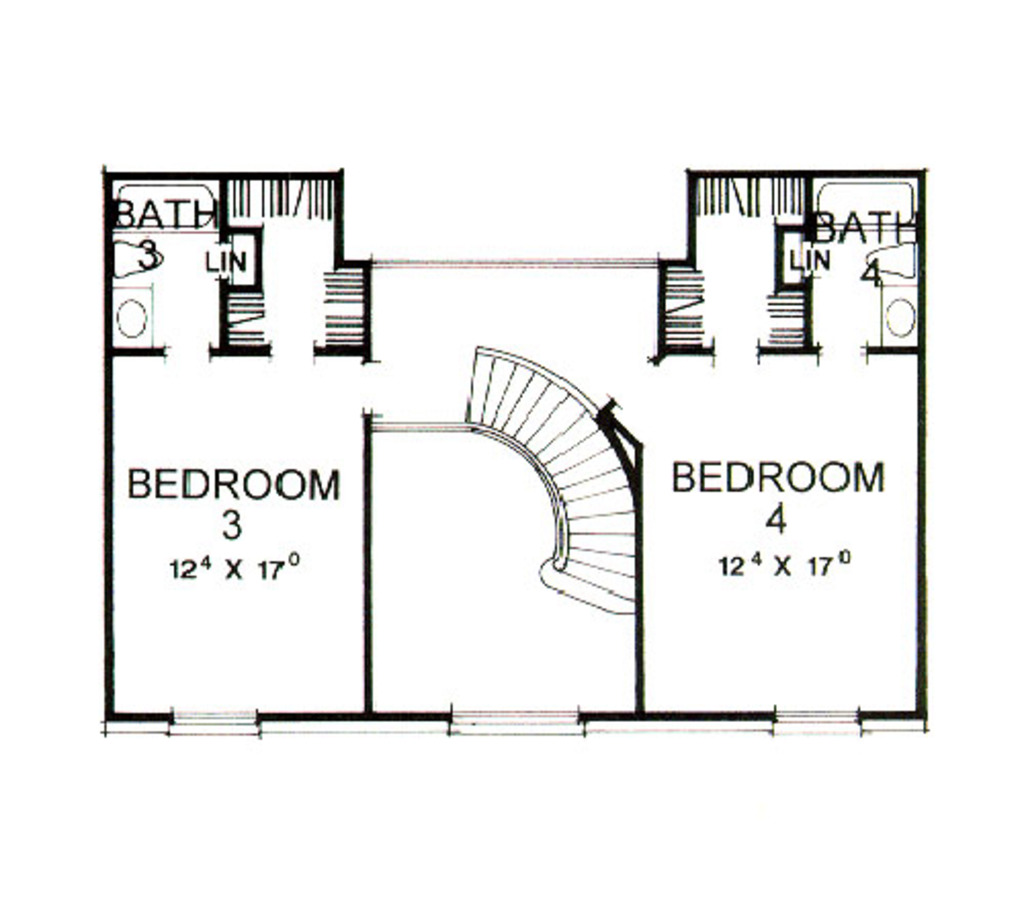large_sink: (862, 237, 918, 280), (111, 240, 167, 282)
small_sink: (103, 284, 156, 349), (875, 284, 919, 352)
stairs: (459, 343, 643, 618)
tub: (108, 178, 229, 235), (814, 178, 918, 232)
windows: (460, 338, 646, 619), (447, 707, 585, 732), (764, 704, 864, 732), (172, 706, 259, 728)
